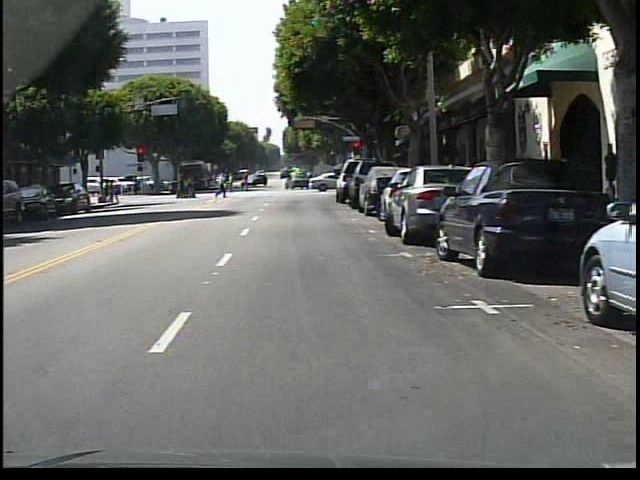person: (210, 169, 230, 199)
